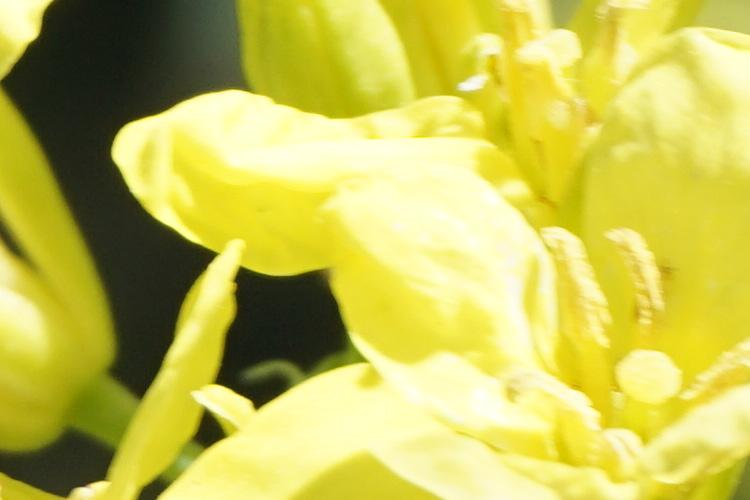yellow: (152, 42, 742, 362), (268, 294, 749, 498)
